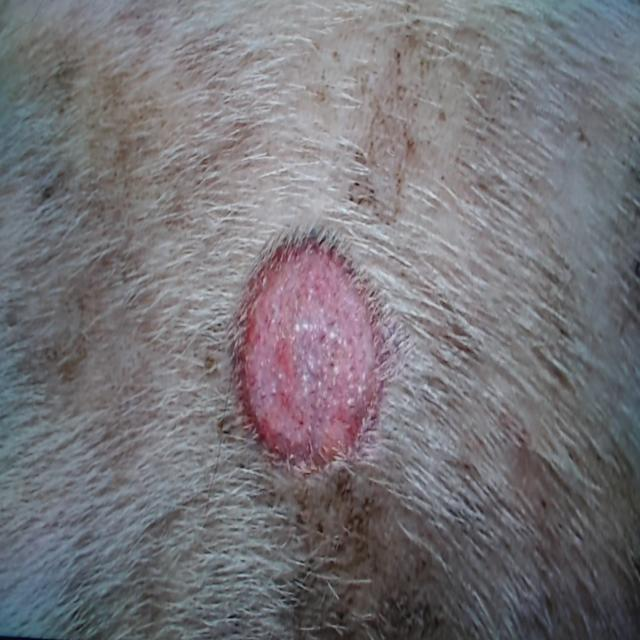ringworm: (215, 194, 402, 511)
